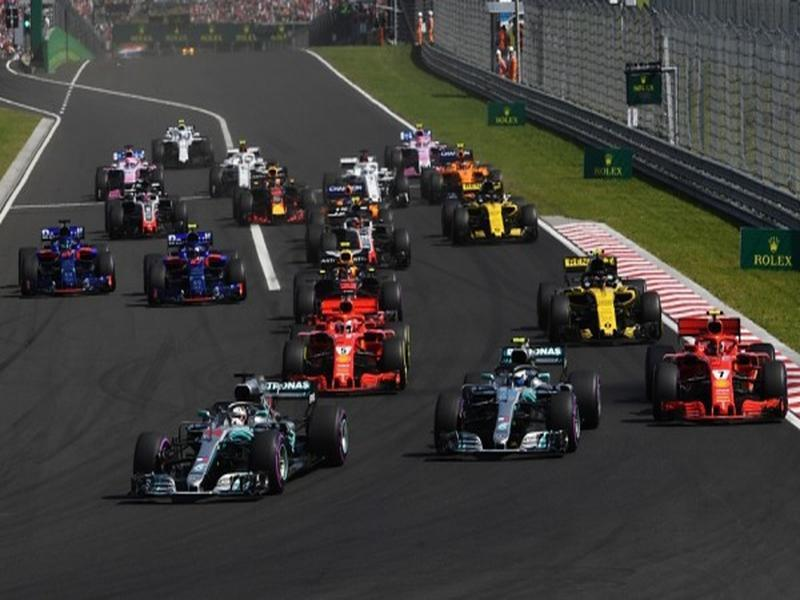f1: (425, 329, 651, 487), (125, 370, 364, 492), (633, 313, 800, 438), (271, 303, 422, 392), (530, 258, 673, 345), (287, 243, 424, 320), (140, 228, 256, 303), (13, 220, 125, 292), (434, 173, 546, 241), (109, 176, 199, 237), (235, 163, 317, 225)
